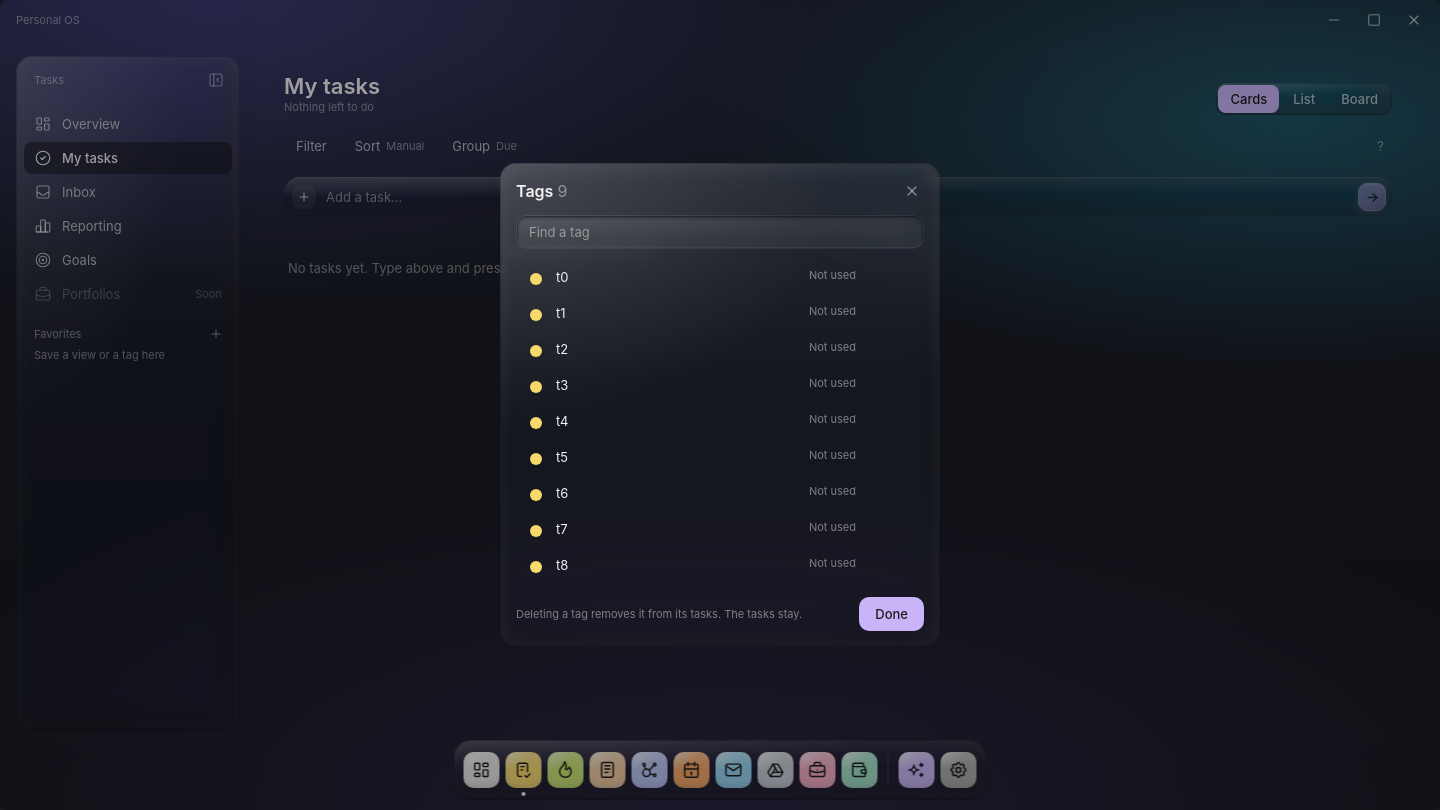
Scenario: Manage tags dialog › shows a search field only with more than 8 tags and filters by it
This screenshot has width=1440, height=810.
Type "t3" into the field labelled "Find a tag" at (720, 232), box 516,215 -> 924,249
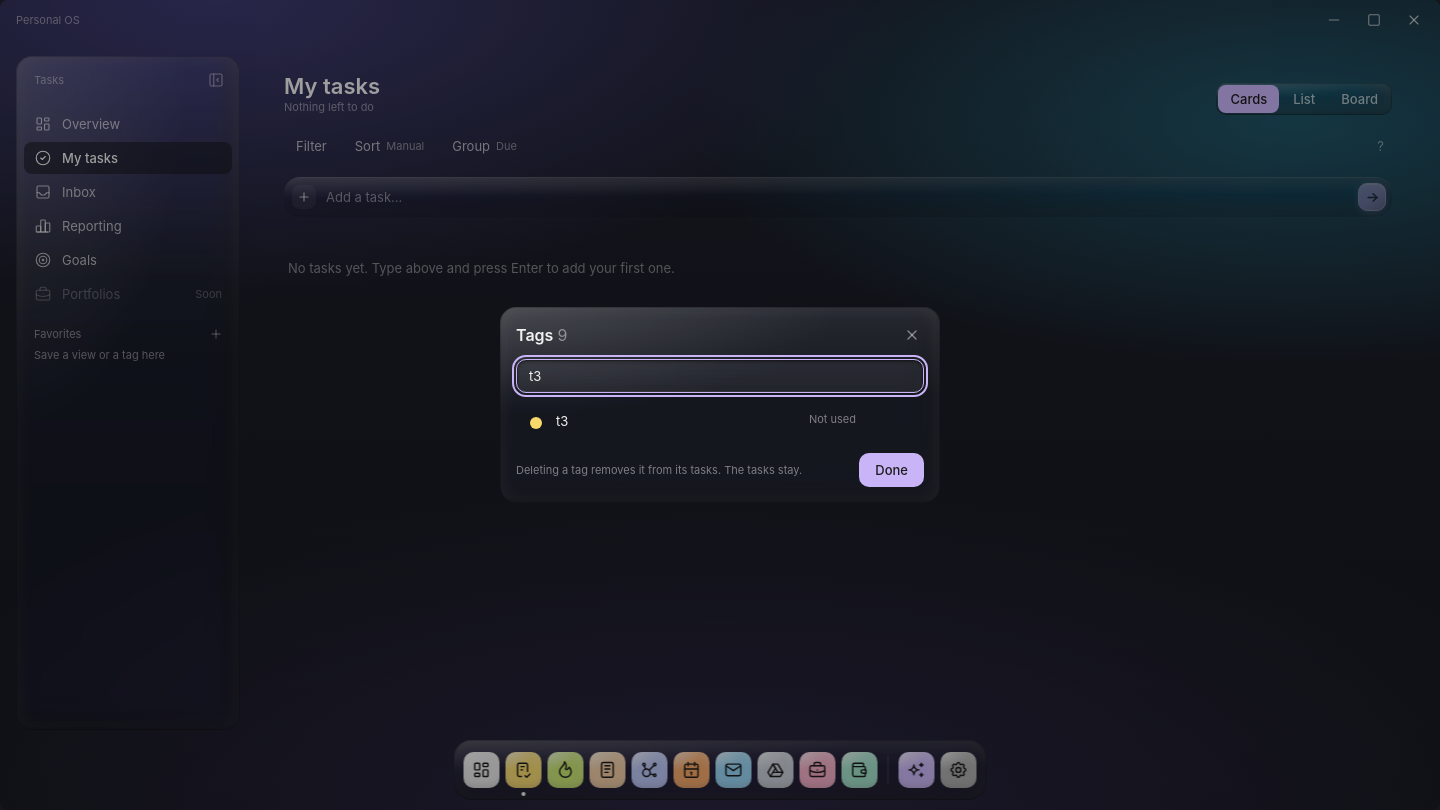
Clear the field named "Find a tag" at (720, 376), box 516,359 -> 924,393
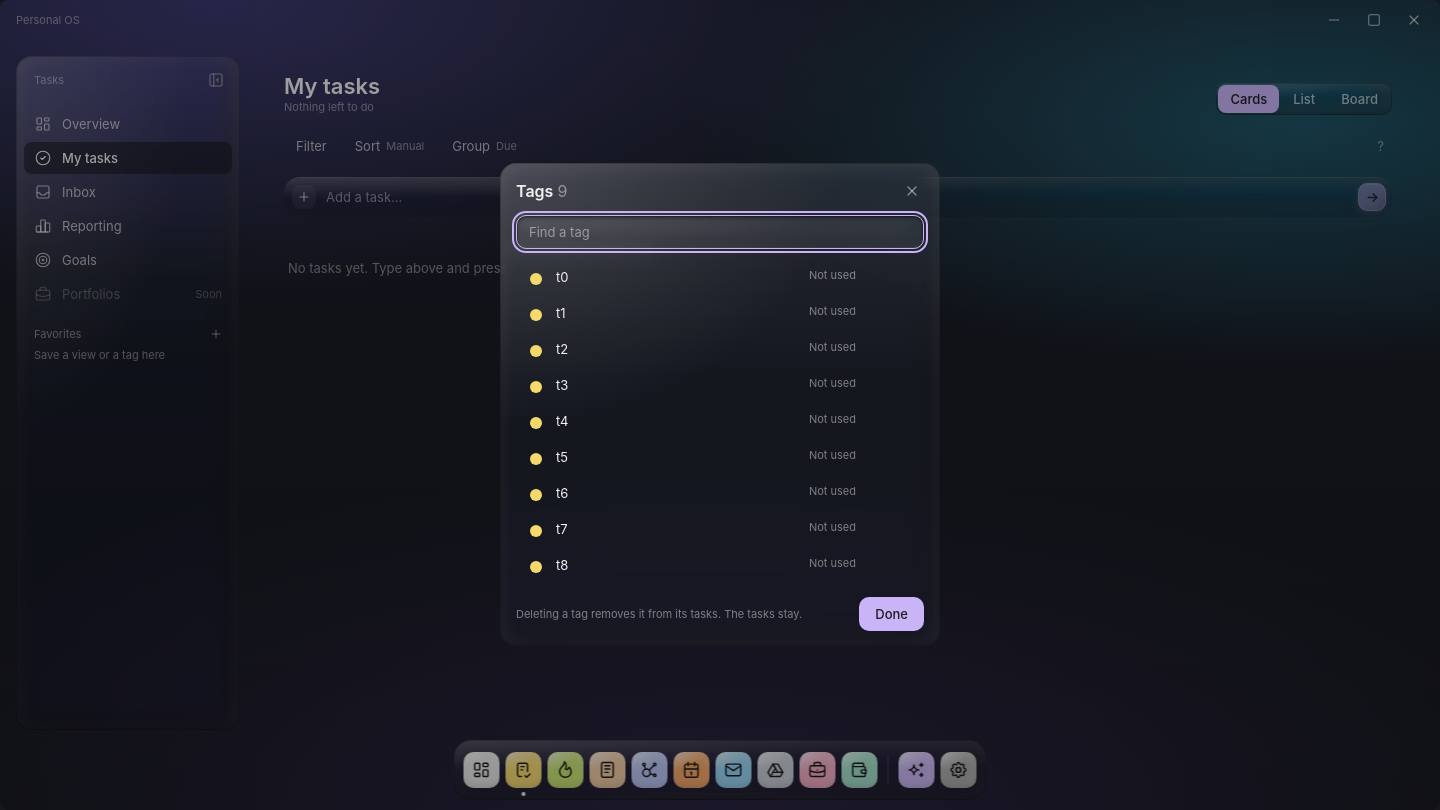
Type "zzz" into the field labelled "Find a tag" at (720, 232), box 516,215 -> 924,249
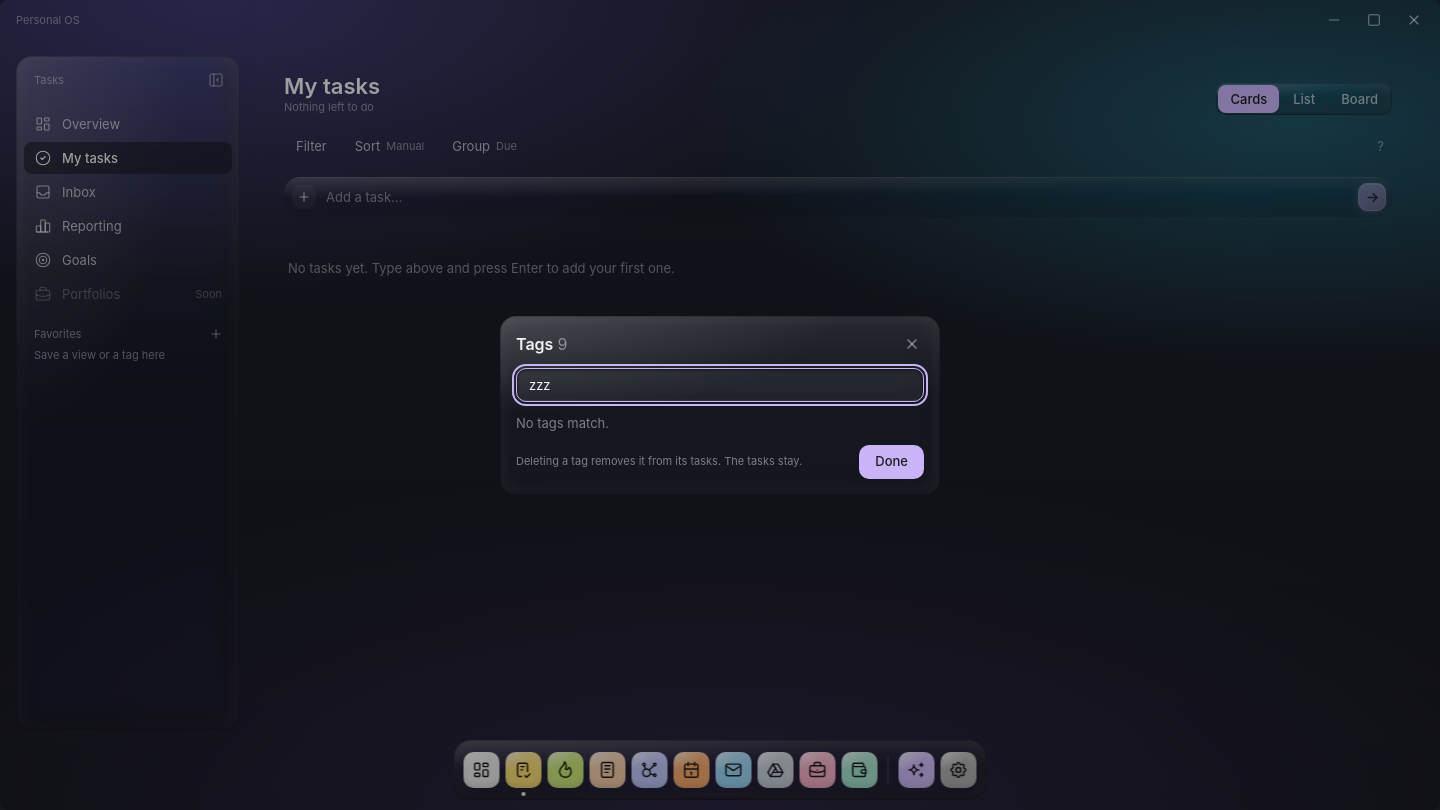
Expected: the text "No tags match." is shown, 516,414 -> 609,430
